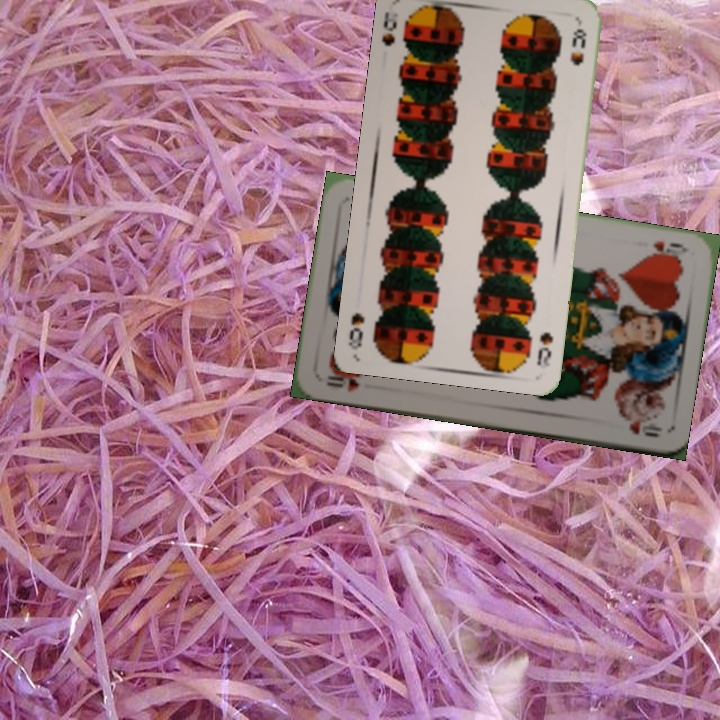HO: (641, 237, 691, 263), (322, 367, 362, 394)
S8: (533, 328, 556, 370), (378, 7, 399, 49)
